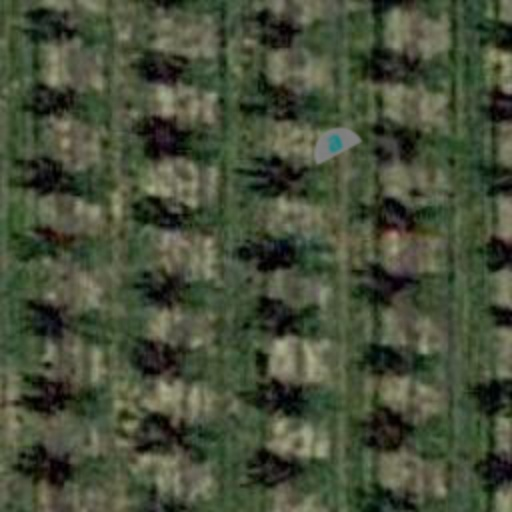semicircle: (298, 106, 370, 178)
